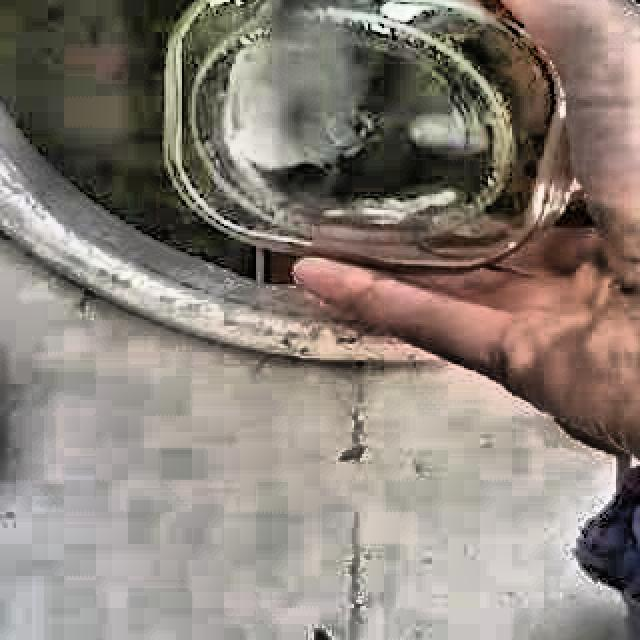glass: (165, 0, 576, 270)
